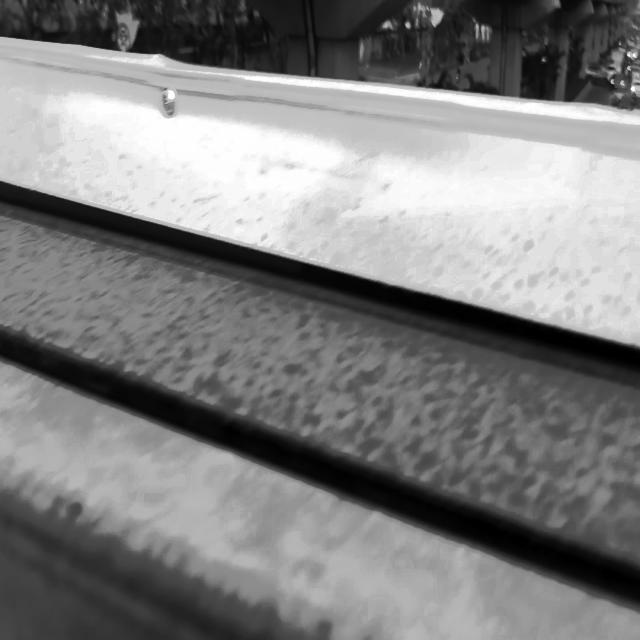bus: (1, 34, 639, 638)
